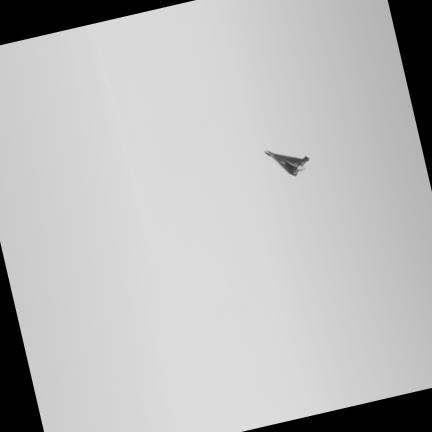Shahed: (265, 151, 308, 175)
